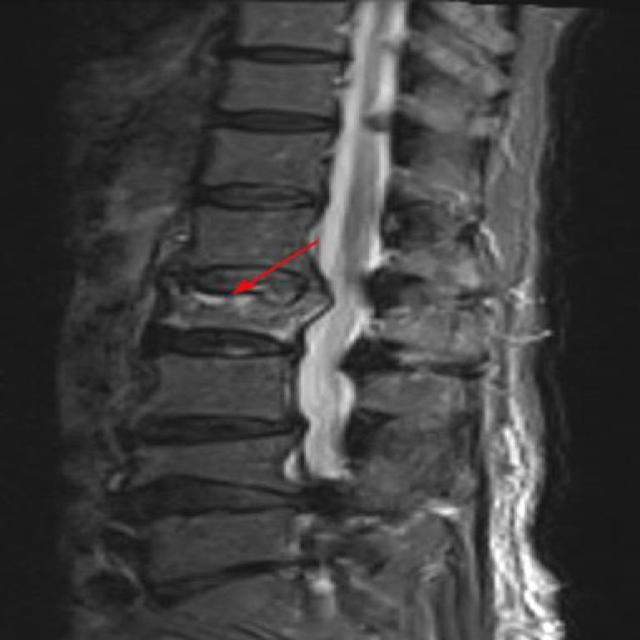fracture: (144, 237, 376, 374)
